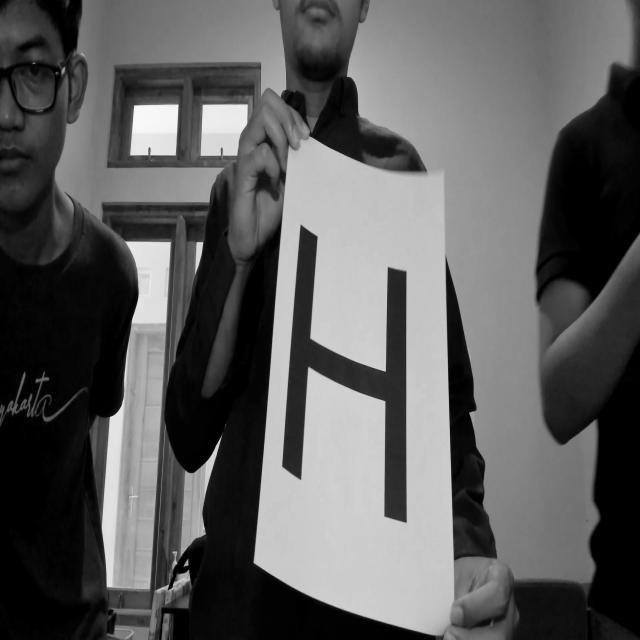h: (280, 213, 420, 551)
